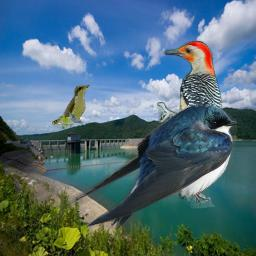Cuckoo: (52, 84, 91, 129)
Swallow: (64, 104, 237, 229)
Woodpecker: (157, 41, 224, 156)
